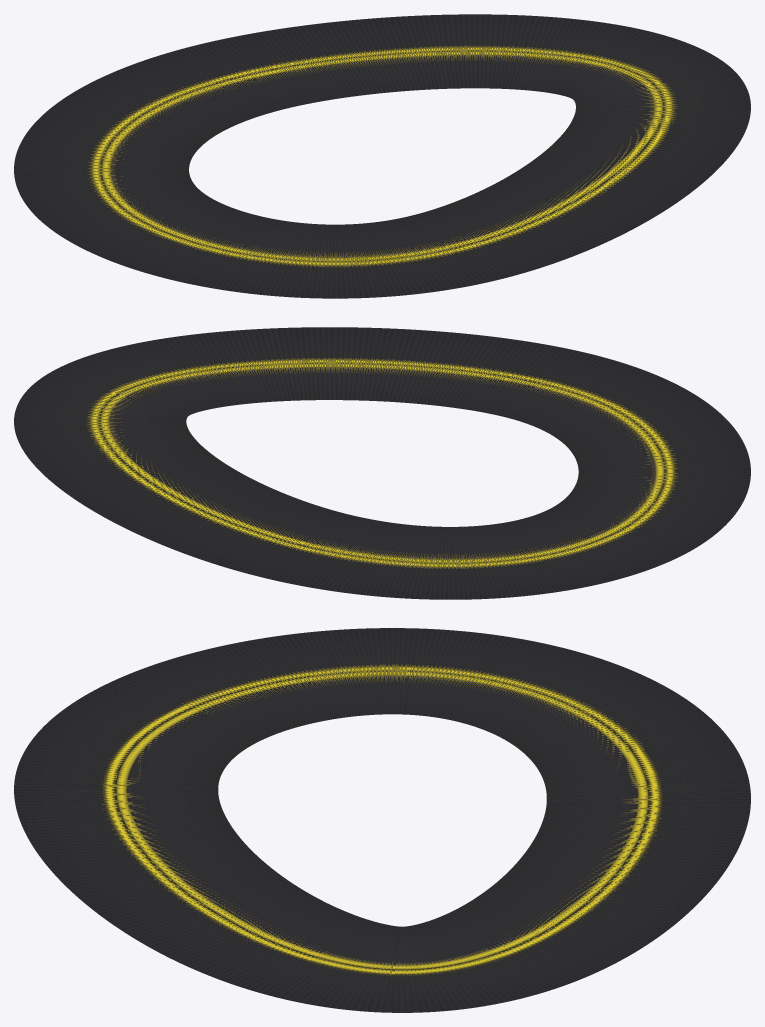
File: pista.obj
3 views of the same model, one above another, from view 1: azimuth 30°, elevation 25°; view 2: azimuth 150°, elevation 25°; view 3: azimuth 270°, elevation 25° (orthographic). The views are drawn at different scales.
Visible parts, largest first — view 1: road; view 2: road; view 3: road.
Boxes of the visible parts, x1=… form: road: x1=14, y1=14, x2=750, y2=298; road: x1=14, y1=327, x2=750, y2=599; road: x1=14, y1=628, x2=750, y2=1012.
Bounding box in the file's own units: 0.8029 × 0 × 0.6497.
